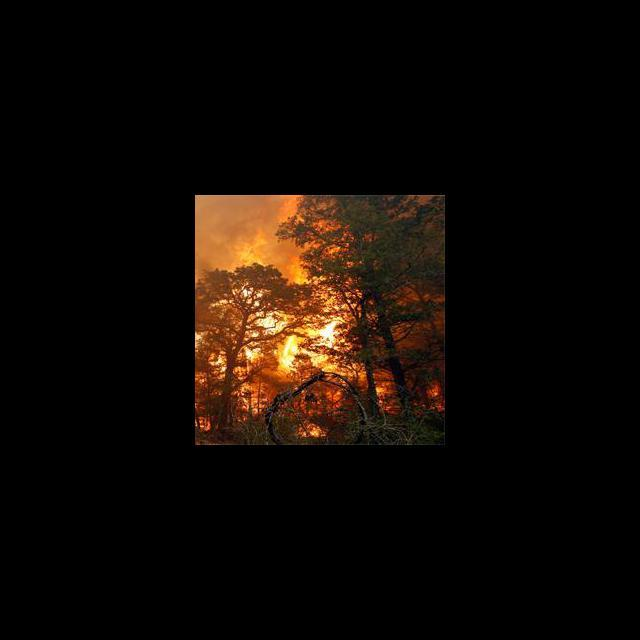Fire: (195, 195, 440, 416)
